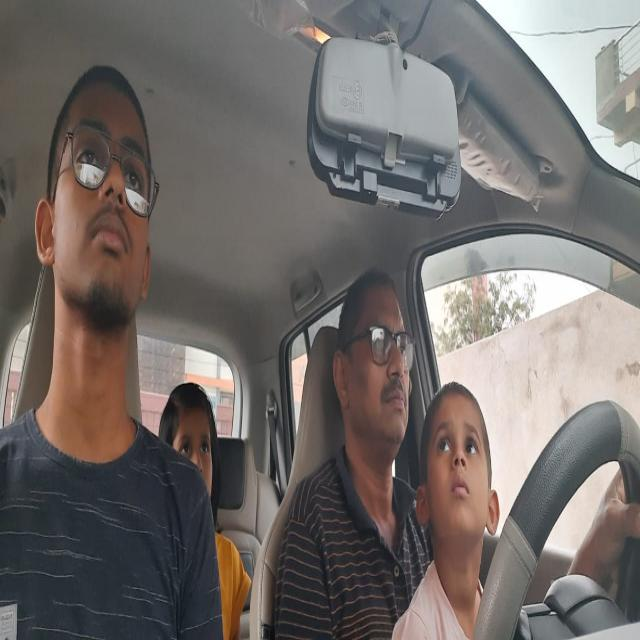child: (416, 375, 500, 567)
person: (38, 52, 155, 380), (333, 262, 413, 490), (160, 367, 218, 516)
